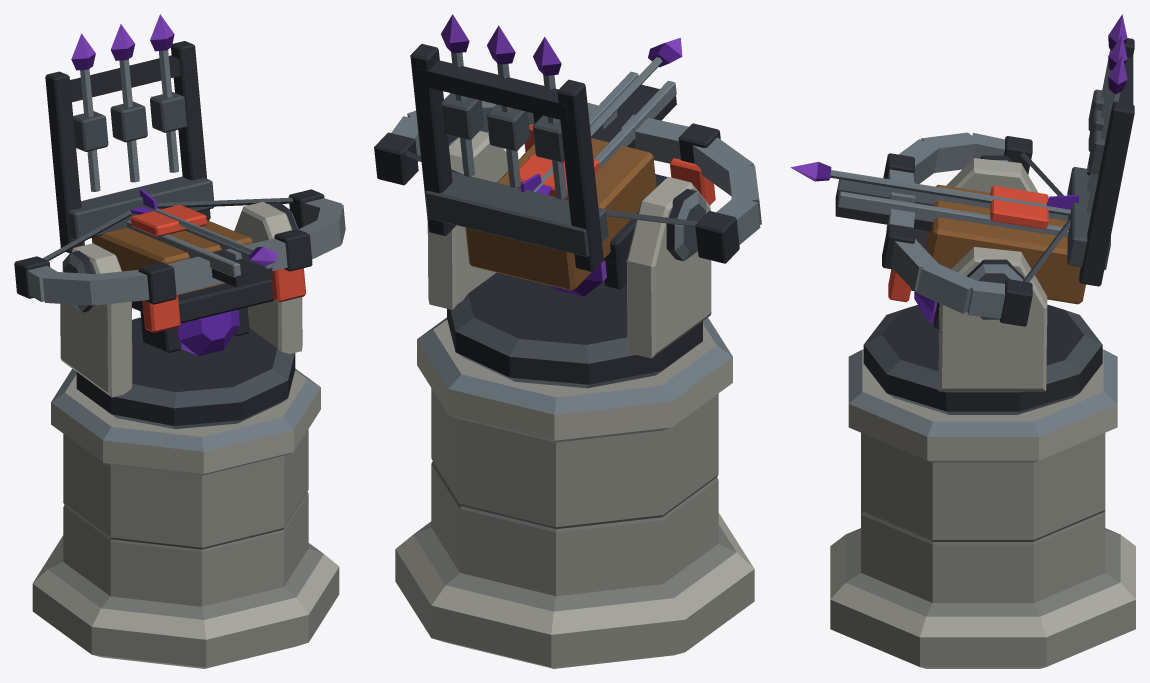
Rendered from lv2_acide.glb.
The picture shows the model from 3 angles, left to right: view 1: azimuth 30°, elevation 25°; view 2: azimuth 150°, elevation 25°; view 3: azimuth 270°, elevation 25°; orthographic projection. The views are drawn at different scales.
Visible parts, largest first — view 1: Base, Barrel_Recoil, Turret_Yaw, Team_Panels; view 2: Base, Barrel_Recoil, Turret_Yaw, Team_Panels; view 3: Base, Barrel_Recoil, Turret_Yaw, Team_Panels.
Part boxes in pixels (box(x1,y1,x2,y2)): Base: box(32, 368, 339, 668); Barrel_Recoil: box(14, 14, 345, 356); Turret_Yaw: box(60, 202, 302, 429); Team_Panels: box(131, 205, 306, 332); Base: box(395, 317, 754, 668); Barrel_Recoil: box(374, 14, 761, 296); Turret_Yaw: box(427, 131, 711, 388); Team_Panels: box(518, 124, 715, 205); Base: box(830, 349, 1135, 668); Barrel_Recoil: box(790, 14, 1134, 328); Turret_Yaw: box(863, 155, 1102, 414); Team_Panels: box(888, 182, 1048, 302).
Bounding box in the file's own units: 1.53 × 2.6 × 1.41.
